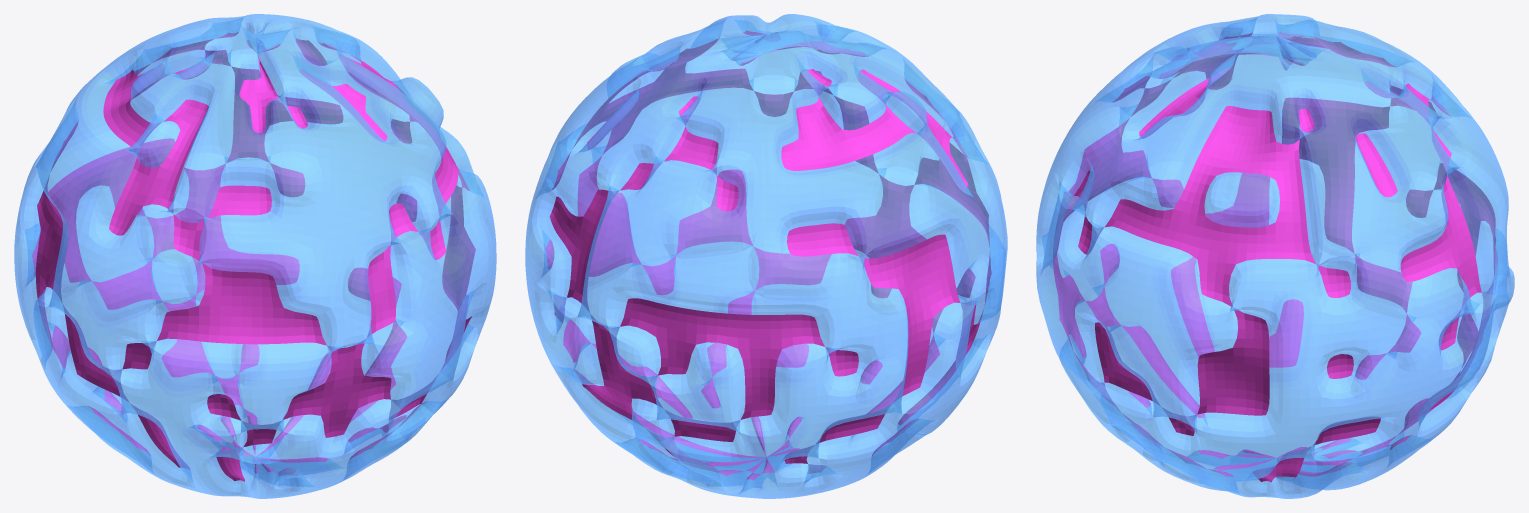
Rendered from planetCoral.fbx.
3 renders of one model, left to right at view 1: azimuth 30°, elevation 25°; view 2: azimuth 150°, elevation 25°; view 3: azimuth 270°, elevation 25°, orthographic.
Parts seen in each view (by area): view 1: Sphere; view 2: Sphere; view 3: Sphere.
Boxes of the visible parts, bbox=[...] form: Sphere: bbox=[14, 14, 496, 498]; Sphere: bbox=[525, 14, 1007, 498]; Sphere: bbox=[1036, 14, 1514, 498].
Size of the model in its own units: 211 by 214 by 210.
